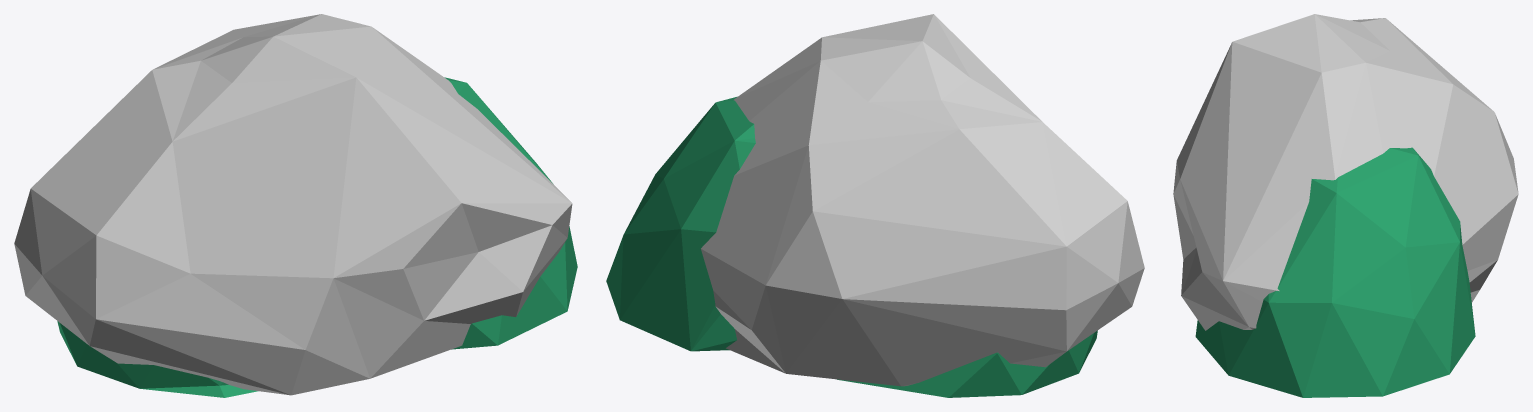
The model's file is FBX_Arbustos.fbx.
The picture shows the model from 3 angles, left to right: view 1: azimuth 30°, elevation 25°; view 2: azimuth 150°, elevation 25°; view 3: azimuth 270°, elevation 25°; orthographic projection. The views are drawn at different scales.
Visible parts, largest first — view 1: MSH_Arbusto01, MSH_Arbusto03; view 2: MSH_Arbusto01, MSH_Arbusto03; view 3: MSH_Arbusto01, MSH_Arbusto03.
Boxes of the visible parts, left/top/right/bottom form: MSH_Arbusto01: left=14, top=14, right=572, bottom=395; MSH_Arbusto03: left=57, top=77, right=577, bottom=397; MSH_Arbusto01: left=701, top=14, right=1144, bottom=386; MSH_Arbusto03: left=606, top=96, right=1097, bottom=397; MSH_Arbusto01: left=1173, top=14, right=1518, bottom=330; MSH_Arbusto03: left=1195, top=147, right=1475, bottom=397.
Size of the model in its own units: 133 by 73.46 by 88.99.
